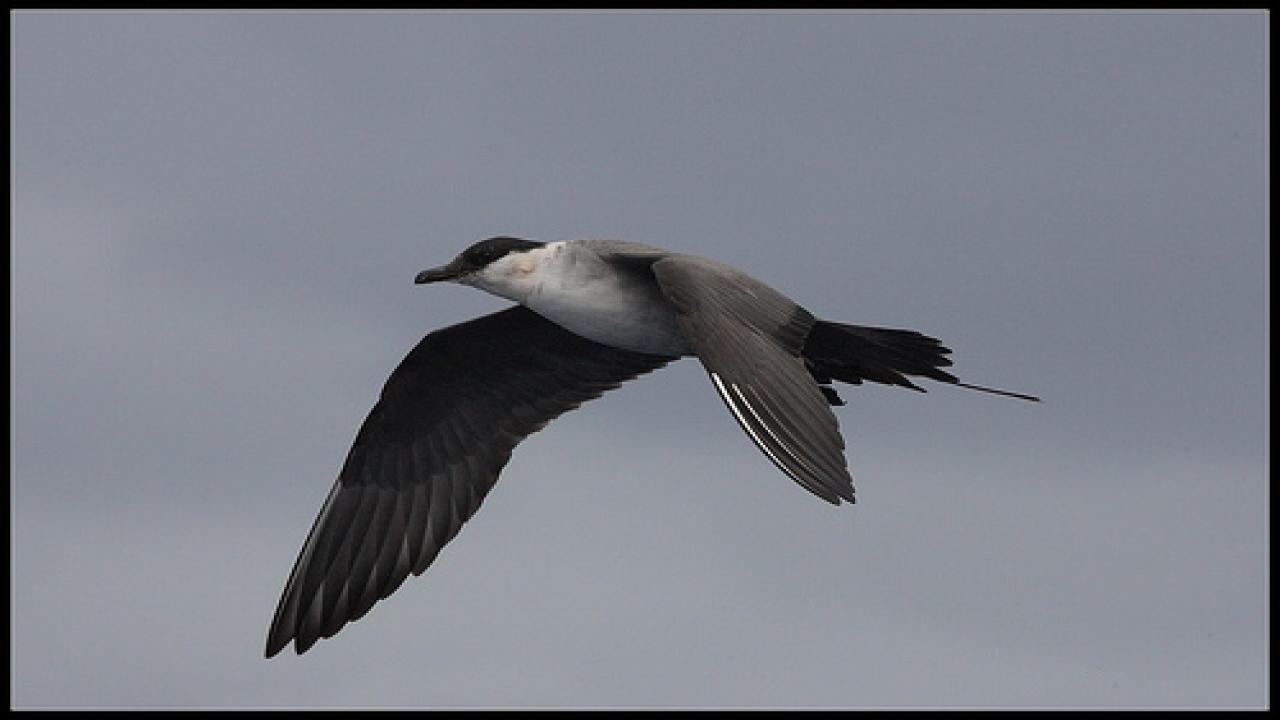Bird: (254, 221, 1062, 672)
